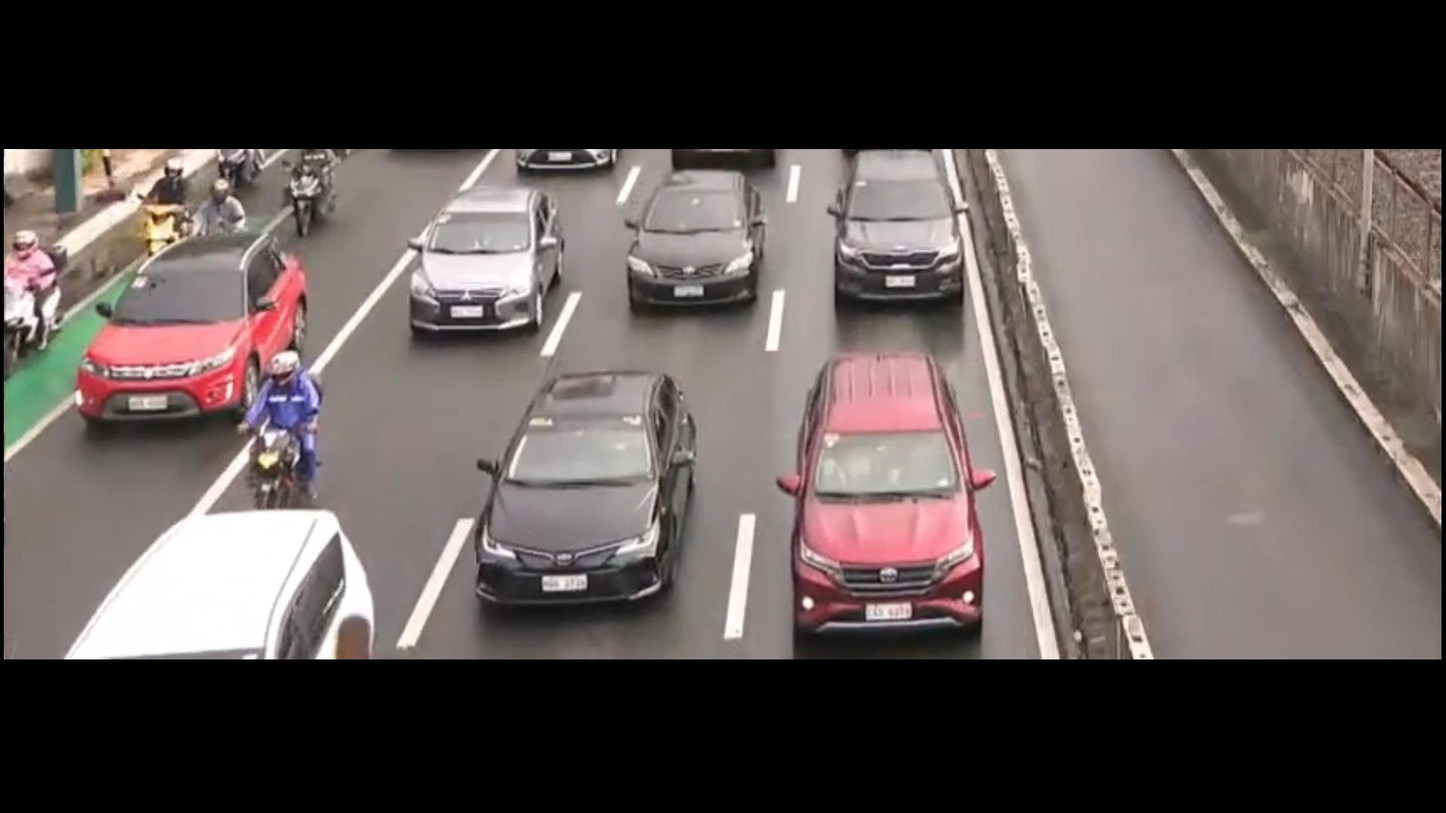Motorcycle: (234, 339, 339, 515), (0, 213, 78, 384), (129, 147, 209, 256), (277, 143, 352, 238), (200, 185, 260, 238), (218, 147, 255, 197)
SUV: (781, 343, 1023, 654), (72, 232, 320, 449), (64, 503, 388, 657), (807, 151, 981, 319)
Sedan: (454, 345, 733, 631), (396, 182, 586, 349), (605, 172, 797, 316)
